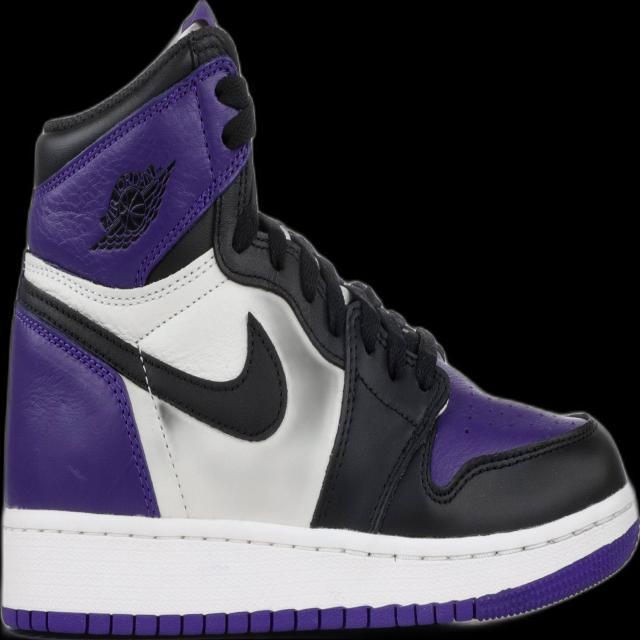J1_InsoleChar: (0, 0, 638, 638)
J1_ShoeLogo: (27, 0, 257, 287), (87, 157, 177, 253)
J1_StitchPattern: (14, 216, 450, 527), (1, 492, 637, 632), (2, 497, 637, 566), (15, 271, 193, 517), (248, 209, 443, 389), (314, 279, 450, 530), (14, 250, 228, 402), (2, 597, 480, 636), (422, 414, 598, 505), (14, 277, 148, 393), (364, 382, 451, 534), (19, 246, 221, 309), (336, 277, 444, 391), (130, 341, 194, 518)
